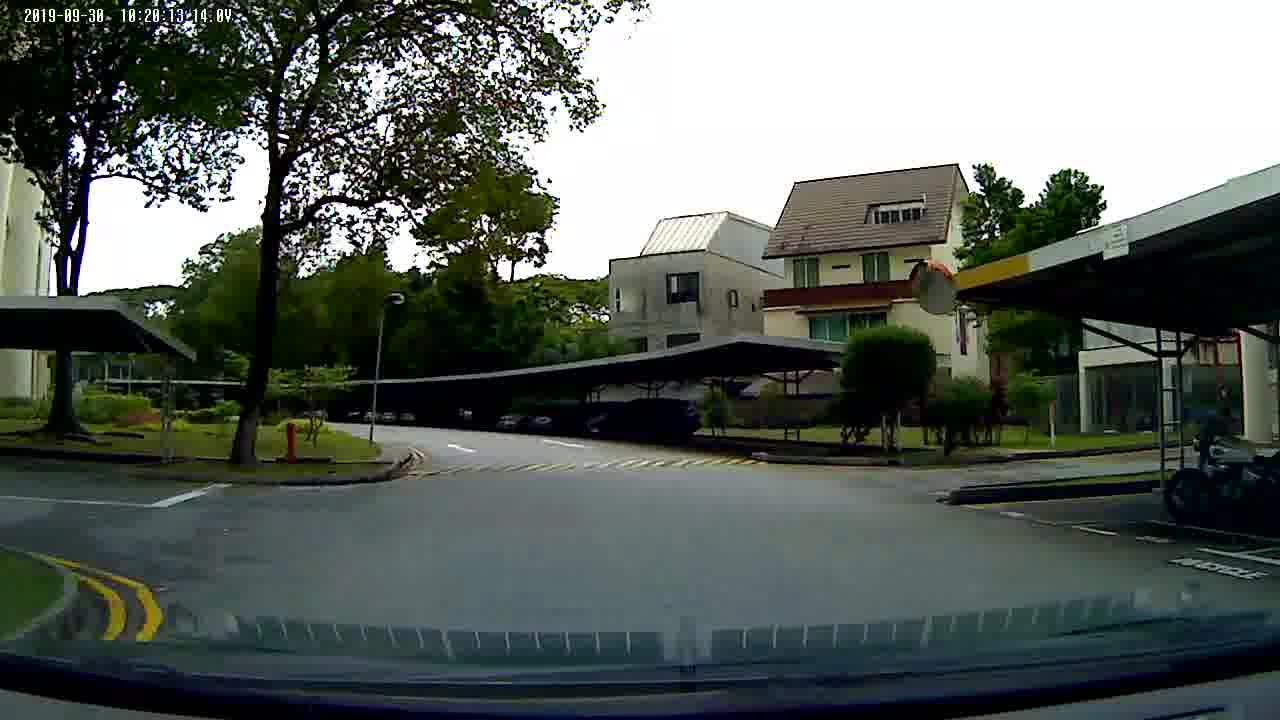car: (585, 396, 703, 446)
